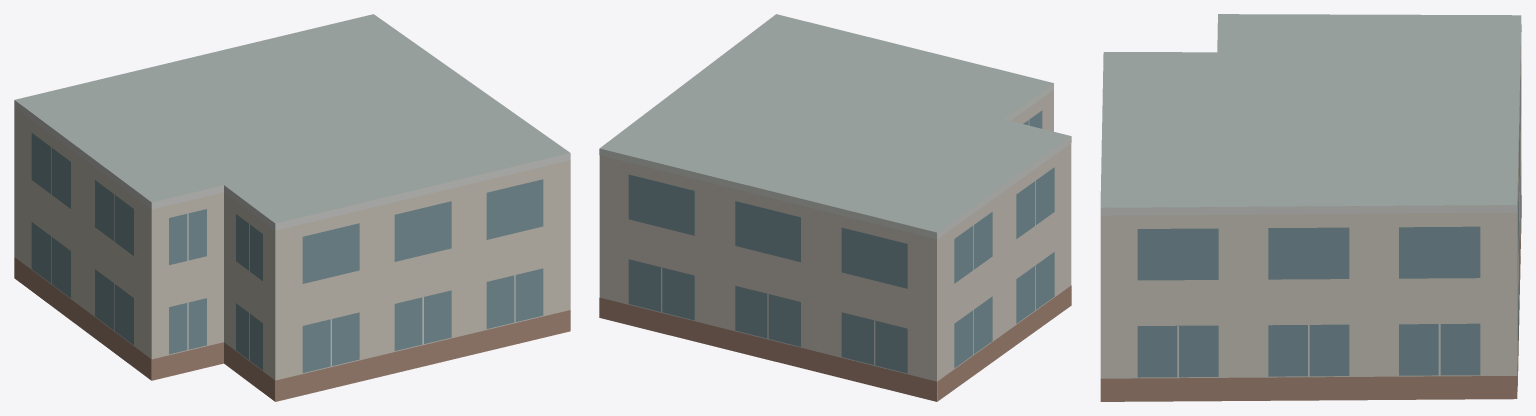
File: survey-upis-32970770.glb
3 views of the same model, side by side, from view 1: azimuth 30°, elevation 25°; view 2: azimuth 150°, elevation 25°; view 3: azimuth 270°, elevation 25° (orthographic). The views are drawn at different scales.
Parts seen in each view (by area): view 1: survey-upis-32970770.tmp; view 2: survey-upis-32970770.tmp; view 3: survey-upis-32970770.tmp.
Part boxes in pixels (x1,y1,x2,y2): survey-upis-32970770.tmp: (14,14,570,401); survey-upis-32970770.tmp: (599,14,1071,401); survey-upis-32970770.tmp: (1100,14,1521,401).
Size of the model in its own units: 13.07 by 6.1 by 12.01.
